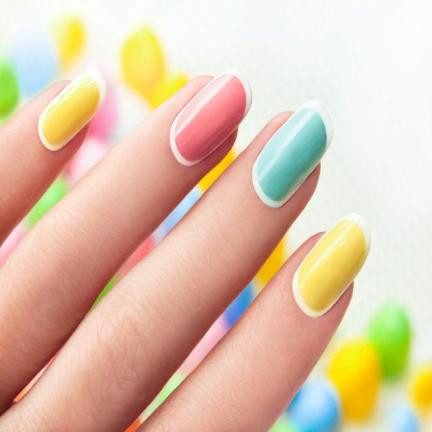Nail: (251, 99, 333, 209), (292, 212, 372, 318), (169, 67, 253, 166), (37, 68, 106, 151)
